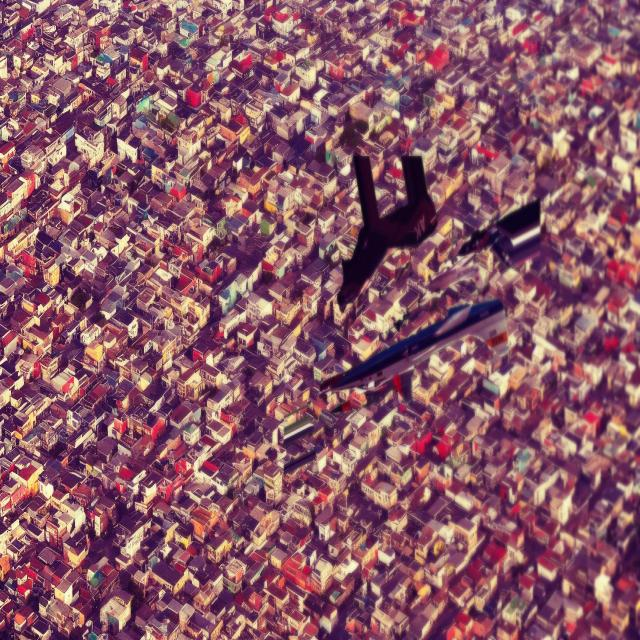airplane: (318, 297, 509, 405), (336, 150, 438, 312), (456, 200, 542, 266)
